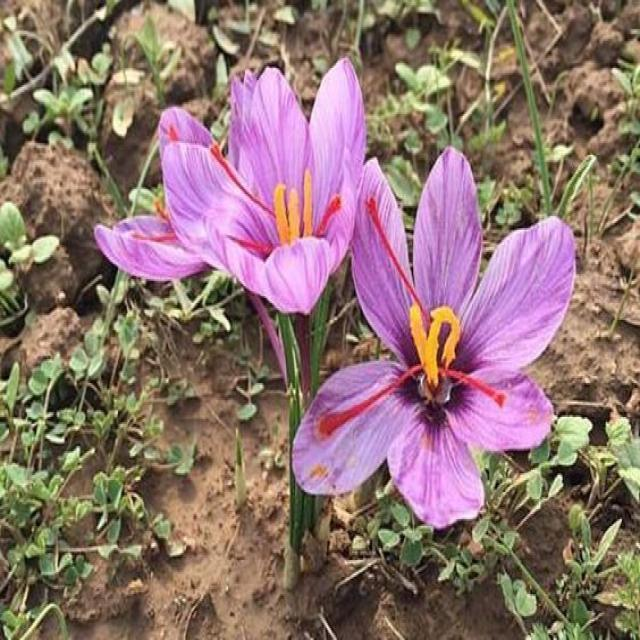Flower: (289, 148, 572, 528), (171, 63, 366, 309)
stigma: (317, 365, 419, 440), (365, 190, 425, 312), (206, 138, 273, 218), (131, 227, 276, 255), (437, 366, 510, 410), (316, 195, 348, 237)
